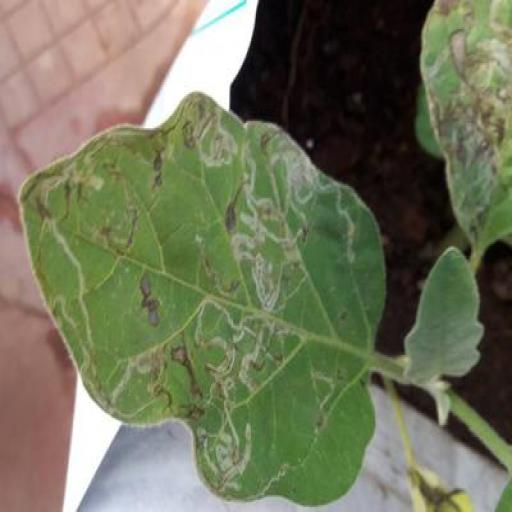Leaf_Miner: (14, 88, 389, 512), (414, 0, 512, 252)
